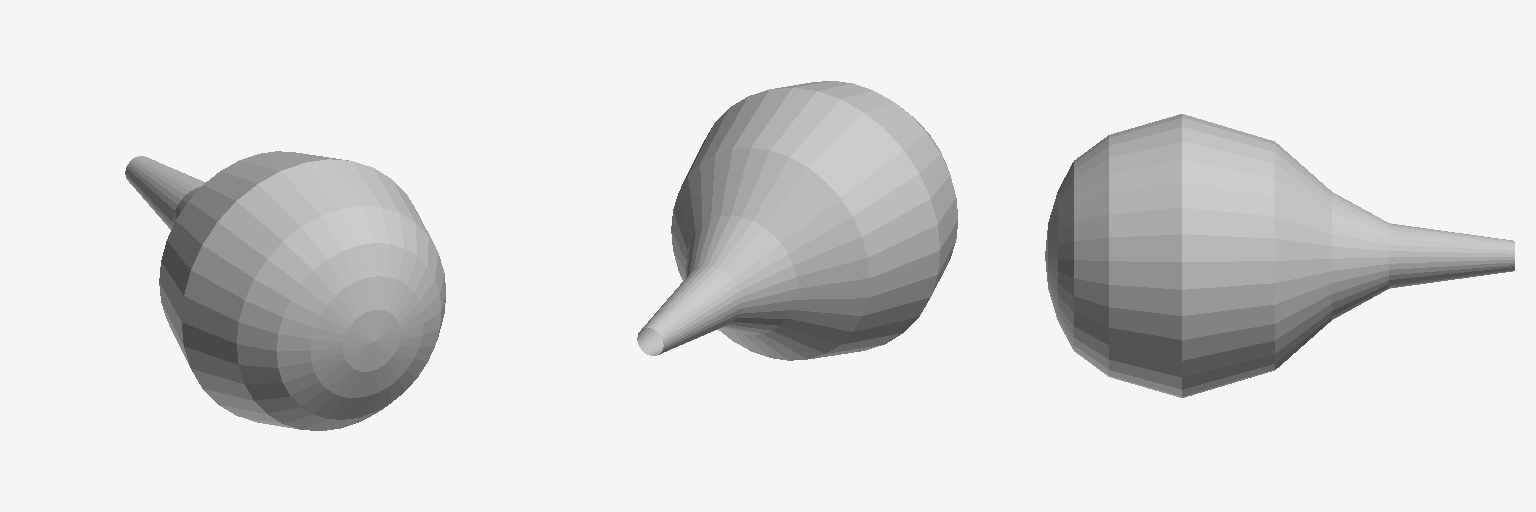
Rendered from fireball.obj.
The picture shows the model from 3 angles: view 1: azimuth 30°, elevation 25°; view 2: azimuth 150°, elevation 25°; view 3: azimuth 270°, elevation 25°; orthographic projection.
Parts seen in each view (by area): view 1: Sphere; view 2: Sphere; view 3: Sphere.
Boxes of the visible parts, x1,y1,x2,y2 form: Sphere: [125, 151, 445, 430]; Sphere: [637, 81, 957, 360]; Sphere: [1045, 114, 1514, 397].
Size of the model in its own units: 1.66 by 1.66 by 2.74.